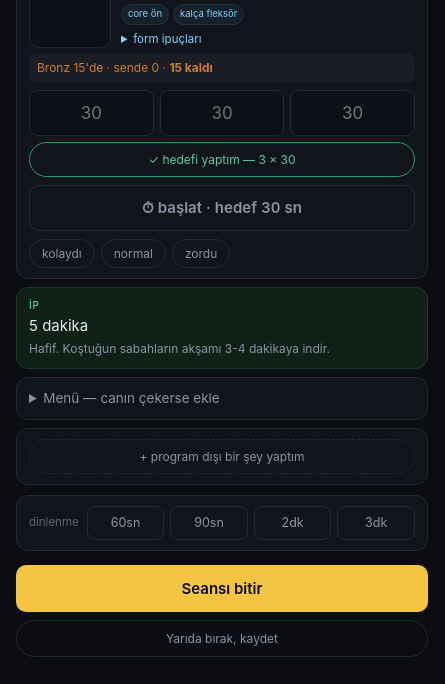
Test: seans akışı › dinlenme sayacı çalışır ve geri sayar
The image size is (445, 684).
(page scrolled)
What coordinates should you click on to do the following:
click the button "90sn"
I would click on:
 (209, 523)
Its box is [170,506,248,540].
Wait 91000 ms
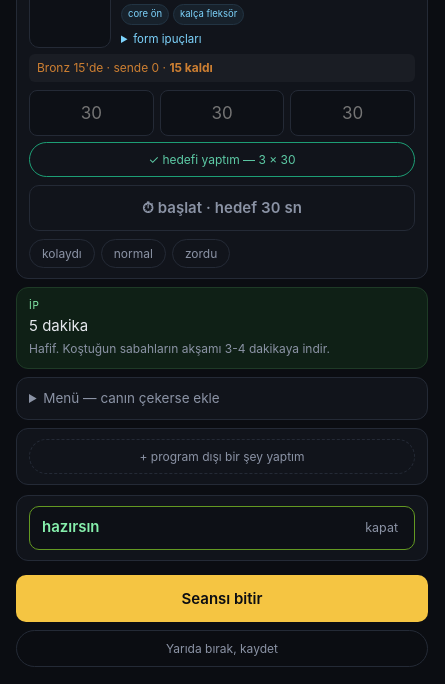
Expected: the text "hazırsın" is shown, [42,516,100,539]
